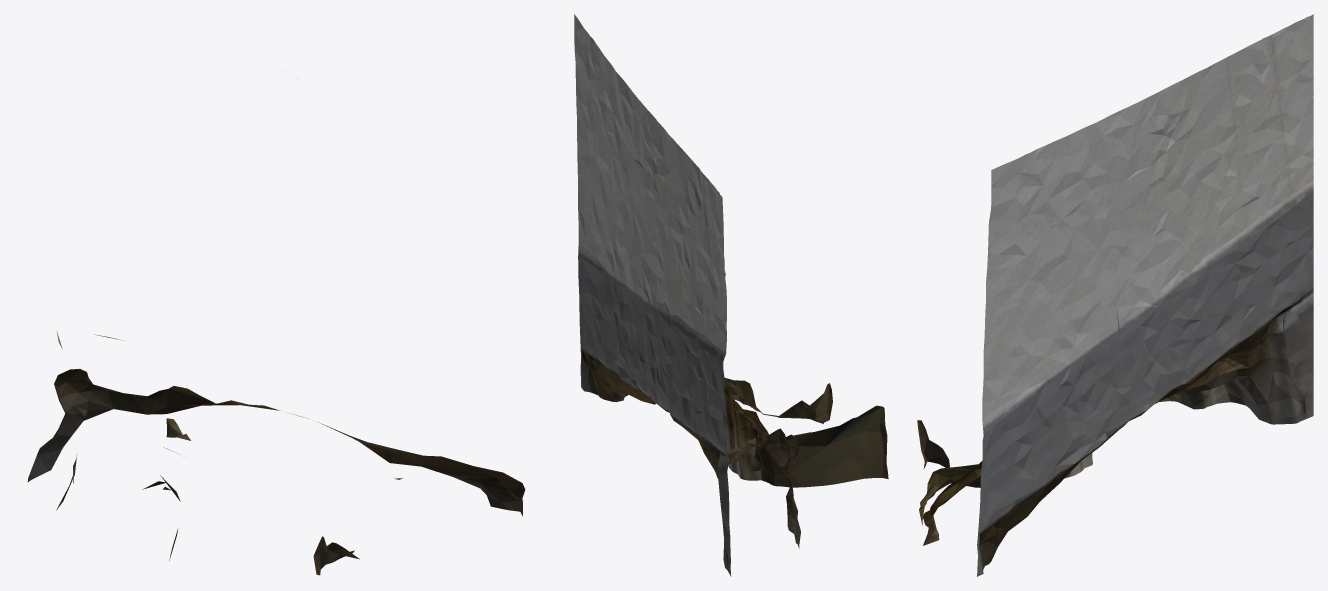
The picture shows the model from 3 angles, left to right: view 1: azimuth 30°, elevation 25°; view 2: azimuth 150°, elevation 25°; view 3: azimuth 270°, elevation 25°; orthographic projection. The views are drawn at different scales.
Size of the model in its own units: 0.7807 by 0.8374 by 0.7399.
Materials: 4 (4 with a texture image).
